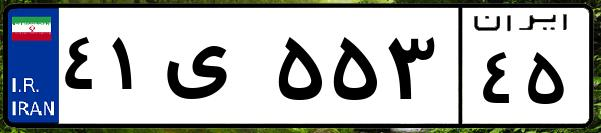1: (110, 28, 158, 98)
3: (385, 28, 445, 110)
4: (57, 26, 110, 100), (475, 38, 525, 113)
5: (270, 28, 330, 110), (330, 28, 385, 110), (525, 38, 570, 115)
ی: (158, 20, 270, 120)
